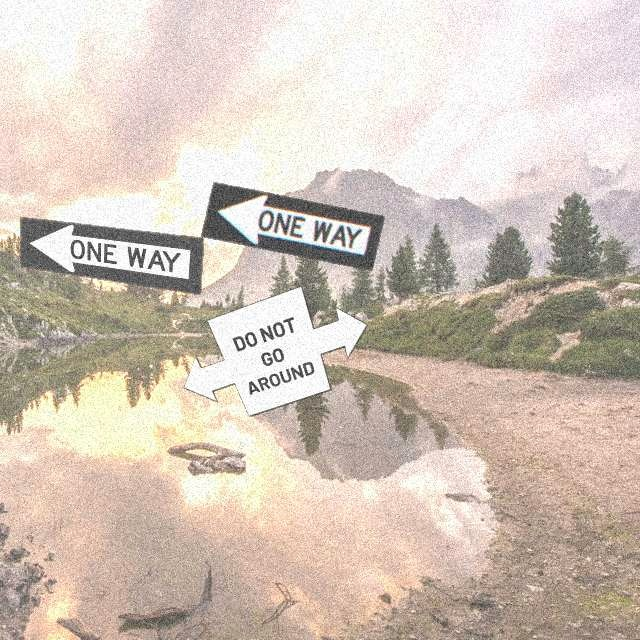DO_NOT_GO_AROUND: (183, 285, 368, 417)
ONE_WAY_ left: (200, 181, 385, 271), (19, 216, 204, 295)
